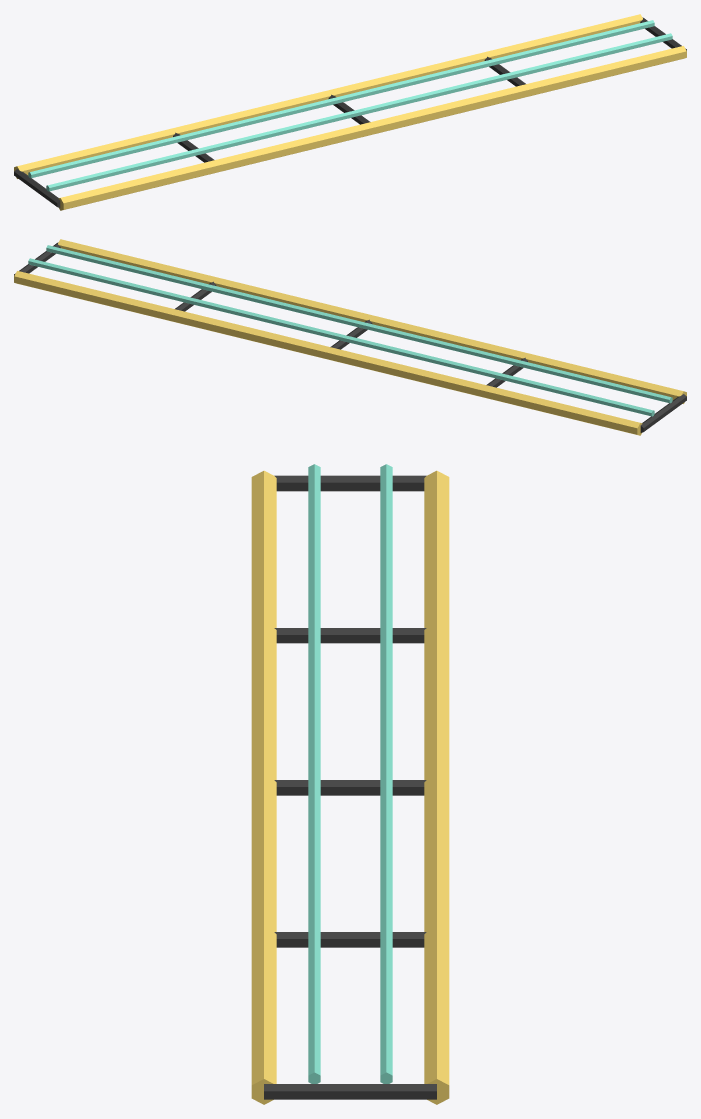
The picture shows the model from 3 angles, top to bottom: view 1: azimuth 30°, elevation 25°; view 2: azimuth 150°, elevation 25°; view 3: azimuth 270°, elevation 25°; orthographic projection. The views are drawn at different scales.
Parts seen in each view (by area): view 1: Cable rail, Cable rail.001, Cable, Cable.001, Rung; view 2: Cable rail.001, Cable rail, Cable.001, Cable, Rung; view 3: Cable rail, Cable rail.001, Cable, Cable.001, Rung.004, Rung, Rung.002, Rung.003, Rung.001.
Boxes of the visible parts, left/top/right/bottom form: Cable rail: left=58, top=46, right=686, bottom=210; Cable rail.001: left=14, top=14, right=642, bottom=178; Cable: left=46, top=33, right=672, bottom=191; Cable.001: left=28, top=20, right=654, bottom=178; Rung: left=14, top=169, right=60, bottom=207; Cable rail.001: left=14, top=271, right=642, bottom=435; Cable rail: left=58, top=239, right=686, bottom=403; Cable.001: left=28, top=258, right=654, bottom=416; Cable: left=46, top=245, right=672, bottom=403; Rung: left=640, top=394, right=686, bottom=432; Cable rail: left=251, top=470, right=276, bottom=1104; Cable rail.001: left=424, top=470, right=449, bottom=1104; Cable: left=308, top=464, right=320, bottom=1083; Cable.001: left=380, top=464, right=392, bottom=1083; Rung.004: left=264, top=1084, right=436, bottom=1099; Rung: left=274, top=475, right=426, bottom=491; Rung.002: left=274, top=780, right=426, bottom=795; Rung.003: left=274, top=932, right=426, bottom=947; Rung.001: left=274, top=628, right=426, bottom=643.
Size of the model in its own units: 2.02 by 0.05 by 0.2746.
1 material, 1 textured.
